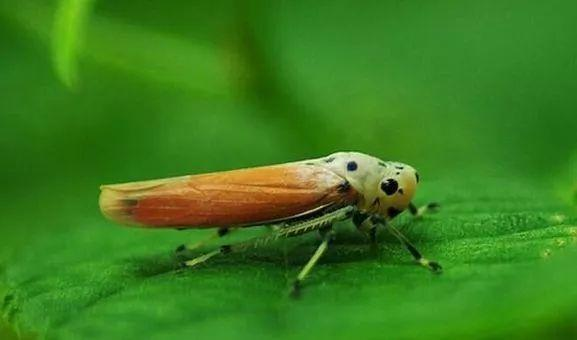Cicadellidae: (96, 150, 444, 296)
